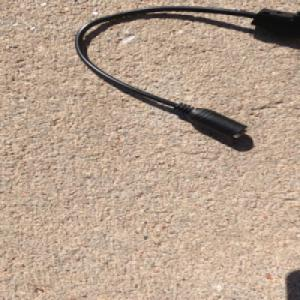Wire: (73, 3, 299, 139)
